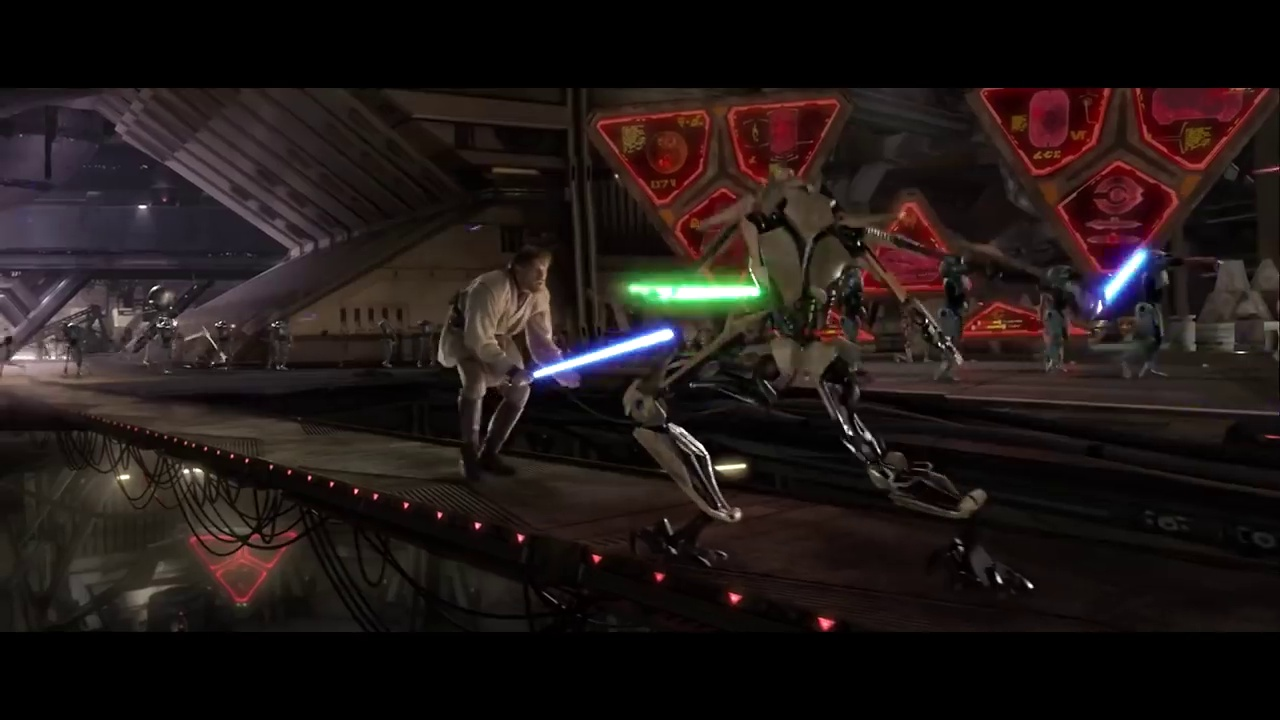lightsaber: (512, 323, 681, 390), (626, 271, 779, 312)
